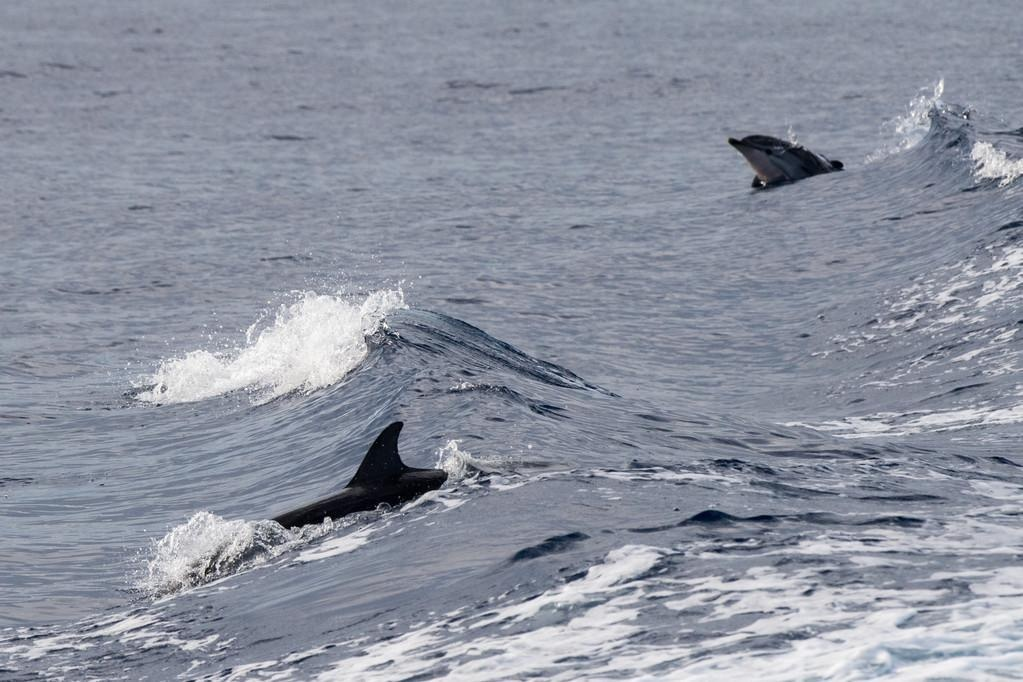fish: (247, 412, 450, 549), (724, 128, 859, 195)
